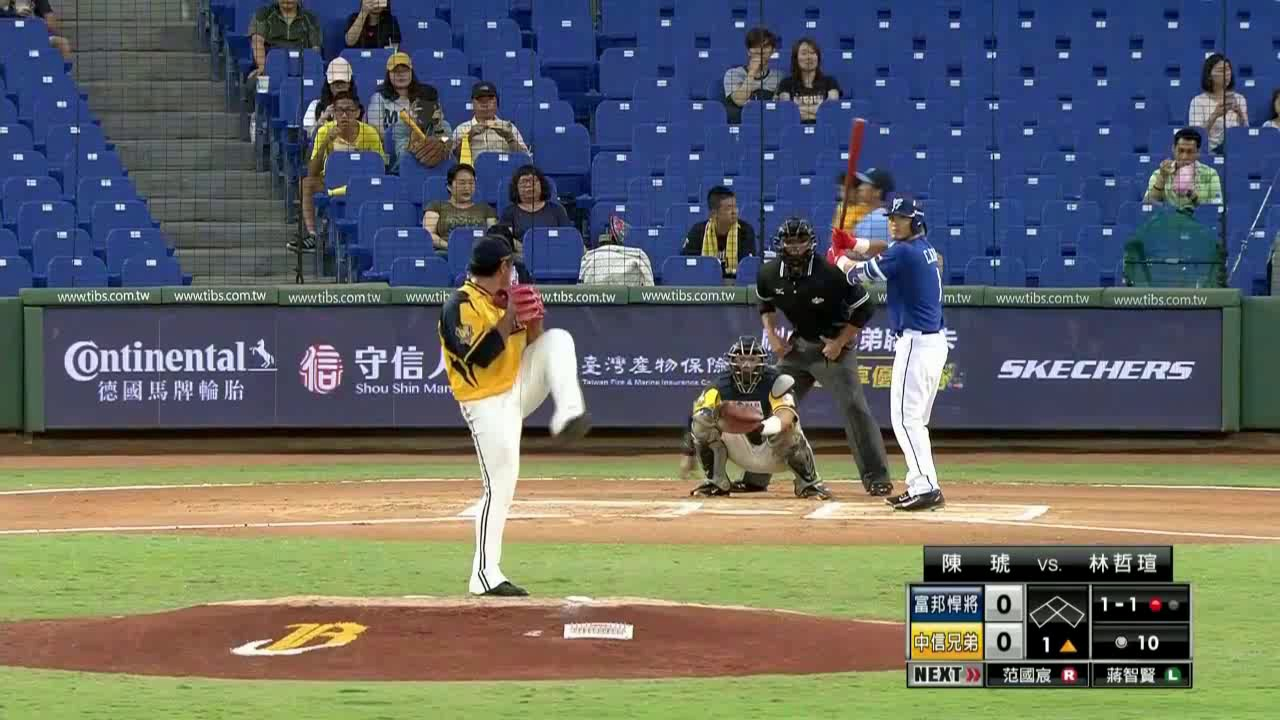base: (1026, 586, 1089, 631)
bat: (833, 114, 868, 234)
out: (1145, 593, 1183, 615)
score1: (992, 590, 1020, 620)
score2: (991, 625, 1018, 657)
session: (1030, 632, 1086, 659)
strikeball: (1097, 591, 1143, 618)
total: (1110, 631, 1163, 655)
